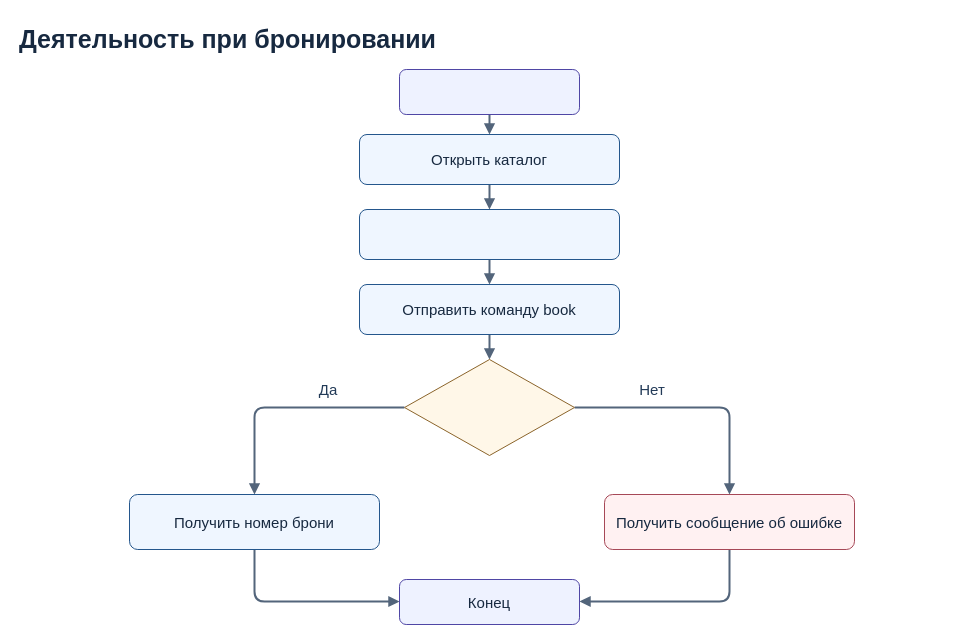
Some shapes in this 964 by 642 pixel diagram are drawn without their labels. Each missing label, with the centre of its shape:
Выбрать устройство: (489,234)
Доступно?: (489,407)
Начало: (489,91)
